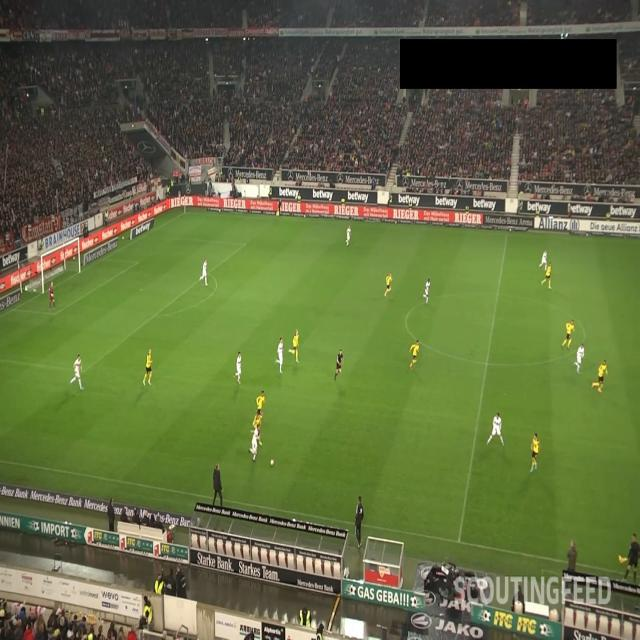ball: (270, 458, 274, 467)
